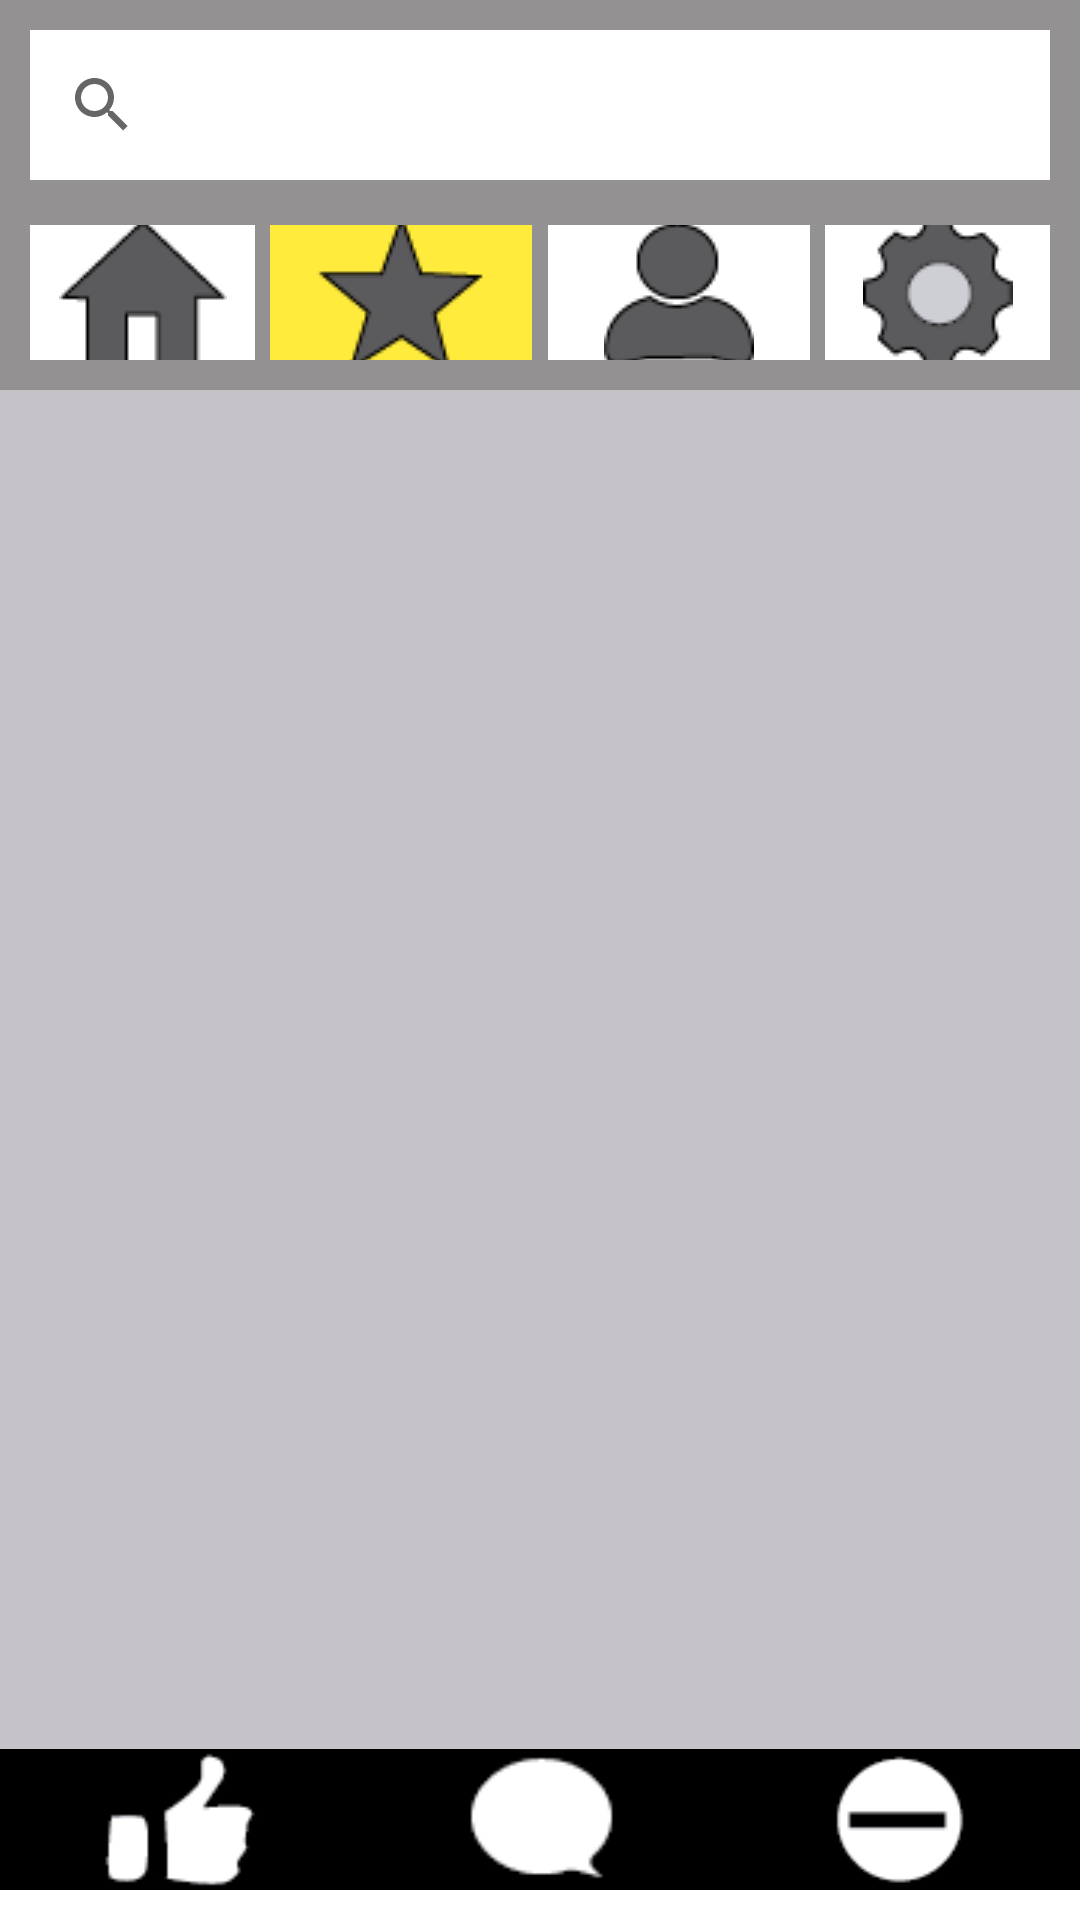

Icon click points for this 1080px×1920px phone screenshot, format (x,y):
coment: (541,1817)
cong: (937,292)
fav: (401,292)
home: (142,292)
like: (180,1819)
perfil: (679,292)
quitar: (900,1819)
